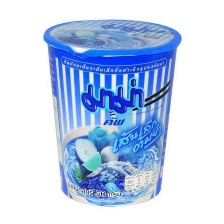paper_cup: (35, 14, 186, 212)
